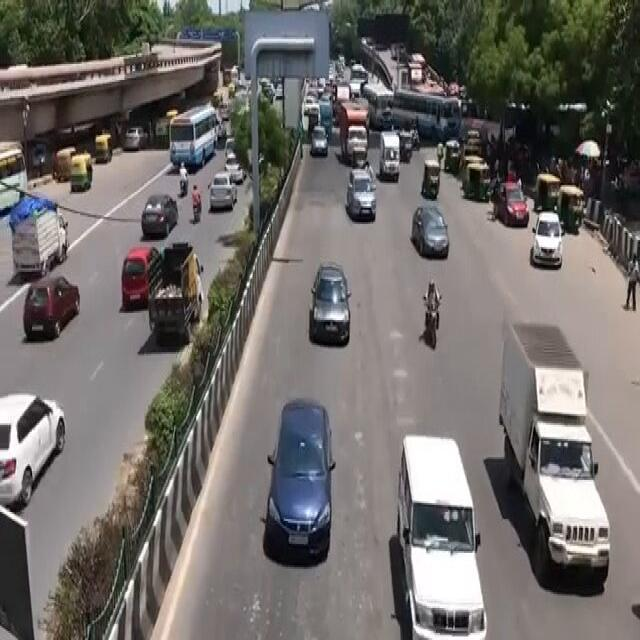three_wheeler: (417, 144, 441, 203)
